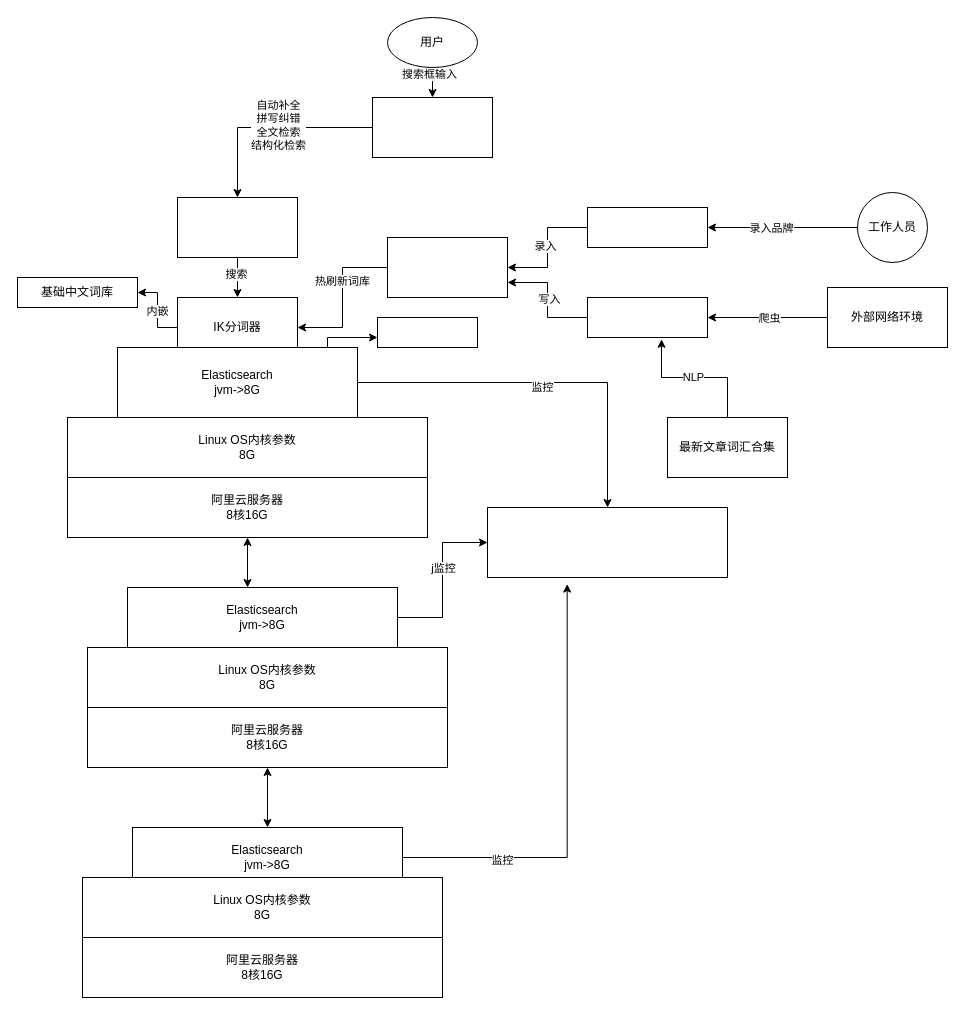
Some shapes in this 965 by 1015 pixel diagram are drawn without their labels. Each missing label, with the centre of its shape:
"kibana" goes at point 607,542.
"mysql 词库 数据库" goes at point 447,267.
"pinyin分词器" goes at point 427,332.
"Web页面" goes at point 647,227.
"商品搜索系统" goes at point 237,227.
"电商APP" goes at point 432,127.
"词汇系统" goes at point 647,317.
